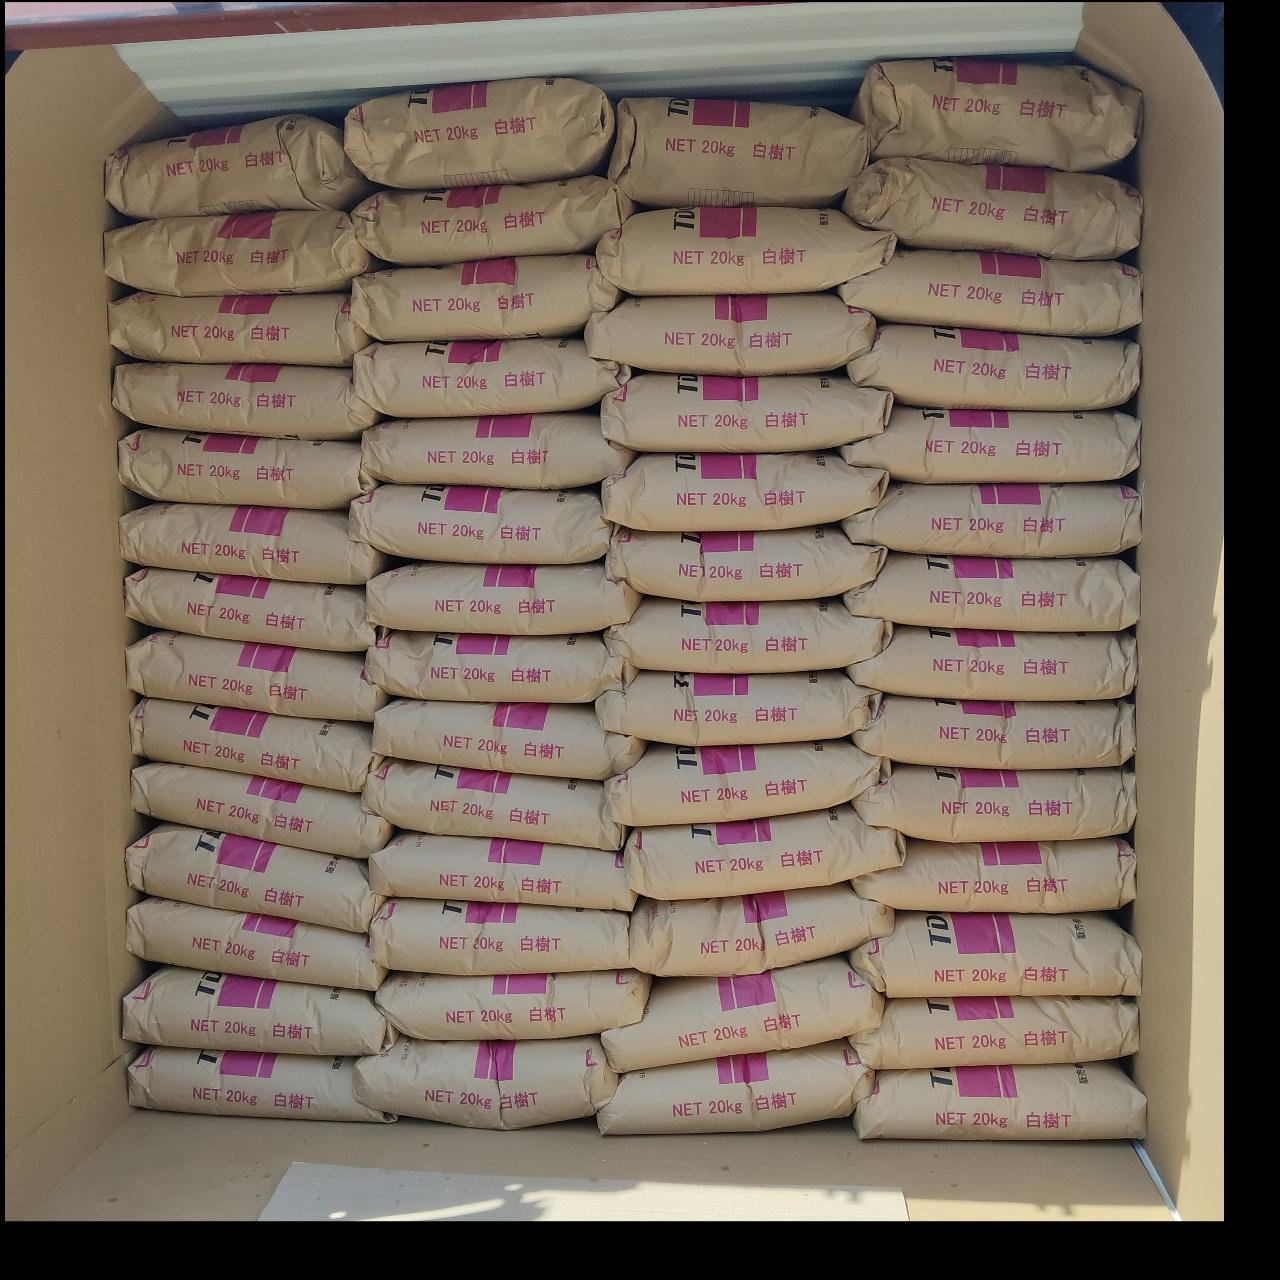sack: (852, 58, 1141, 171), (602, 956, 883, 1070), (844, 158, 1142, 259), (344, 78, 614, 188), (105, 114, 377, 219), (608, 97, 869, 206), (127, 824, 380, 933), (839, 248, 1142, 336), (624, 804, 903, 899), (598, 1039, 873, 1134), (597, 207, 896, 294), (604, 738, 890, 826), (351, 176, 632, 265), (848, 325, 1140, 410), (362, 755, 623, 850), (123, 967, 398, 1056), (132, 763, 392, 857), (354, 1036, 619, 1128), (127, 897, 386, 991), (852, 912, 1140, 996), (586, 293, 875, 375), (631, 884, 893, 974), (128, 630, 386, 721), (841, 403, 1140, 481), (352, 254, 621, 340), (841, 480, 1141, 557), (845, 554, 1140, 632), (602, 373, 893, 452), (106, 210, 376, 295), (854, 1061, 1146, 1139), (602, 451, 889, 530), (372, 698, 645, 780), (853, 762, 1136, 841), (132, 699, 371, 792), (847, 625, 1138, 701), (606, 596, 892, 673), (353, 338, 628, 417), (596, 670, 880, 746), (853, 837, 1136, 913), (121, 504, 385, 584), (369, 832, 636, 911), (607, 525, 887, 600), (113, 362, 382, 440), (126, 568, 375, 651), (853, 695, 1134, 768), (851, 997, 1138, 1068), (128, 1046, 396, 1122), (350, 485, 611, 563), (366, 561, 641, 635), (363, 413, 634, 488), (369, 898, 636, 974), (119, 428, 372, 508), (375, 969, 650, 1040), (366, 630, 637, 702), (109, 293, 369, 365)
